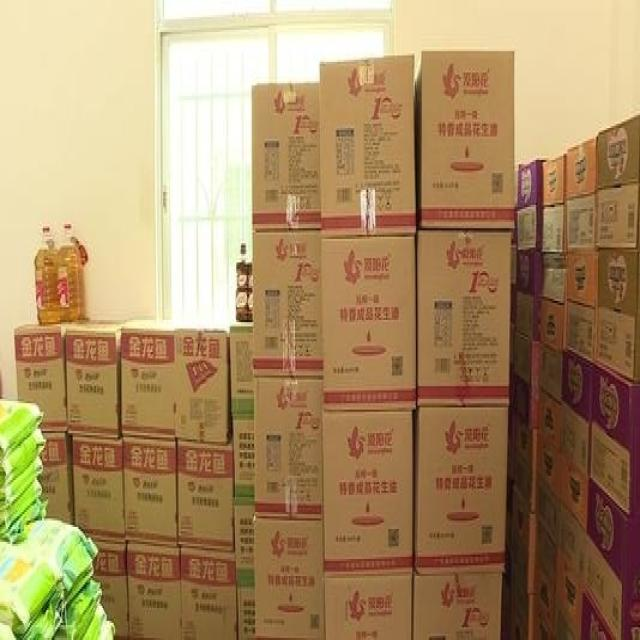box: (319, 53, 417, 239), (415, 51, 514, 230), (417, 230, 512, 407), (321, 235, 416, 407), (413, 407, 508, 574), (322, 410, 413, 578), (587, 356, 640, 578), (252, 81, 321, 230), (254, 375, 324, 521), (252, 233, 322, 375), (253, 518, 324, 640), (67, 320, 128, 439), (14, 320, 73, 437), (177, 437, 236, 550), (175, 329, 231, 444), (122, 322, 177, 437), (122, 435, 177, 548), (581, 535, 640, 640), (73, 437, 127, 546), (596, 250, 640, 382), (597, 115, 640, 250), (412, 576, 502, 640), (324, 576, 412, 640), (127, 542, 181, 640), (181, 548, 237, 640), (86, 535, 128, 640), (560, 346, 593, 476), (564, 137, 597, 252), (559, 454, 588, 582), (38, 431, 76, 527), (566, 250, 597, 358), (533, 516, 560, 638), (509, 484, 537, 595), (553, 544, 584, 640), (537, 343, 564, 450), (539, 252, 566, 354), (512, 331, 539, 431), (536, 435, 560, 544), (512, 410, 537, 512), (541, 154, 566, 252), (507, 555, 535, 640), (229, 320, 254, 414), (515, 252, 541, 341), (518, 158, 542, 252), (233, 414, 254, 499), (234, 503, 255, 587), (237, 587, 256, 640), (533, 597, 554, 638)
